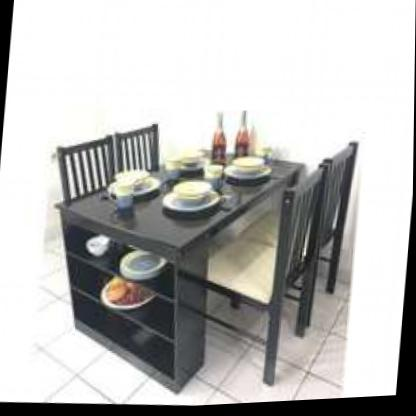Dining Table: (31, 104, 372, 415)
